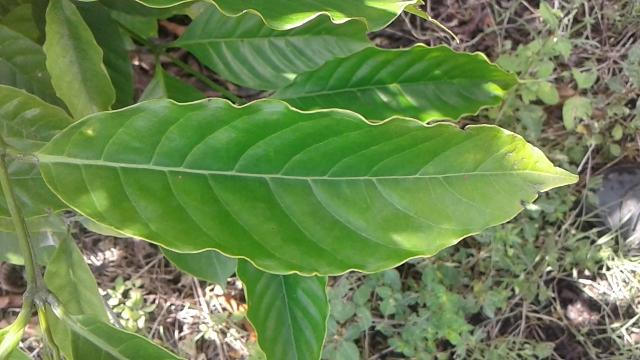rust_level_1: (33, 94, 582, 278)
